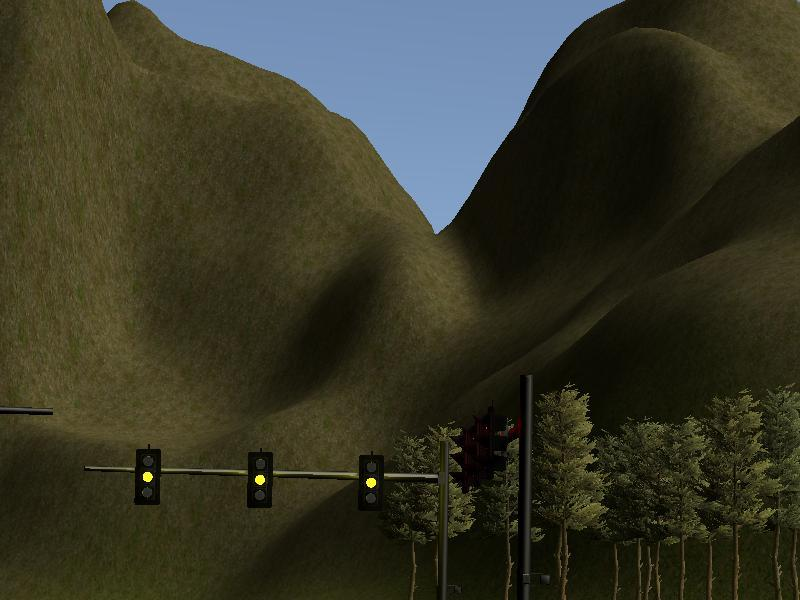Yellow: (246, 451, 273, 509), (134, 450, 160, 508), (359, 455, 382, 510)
